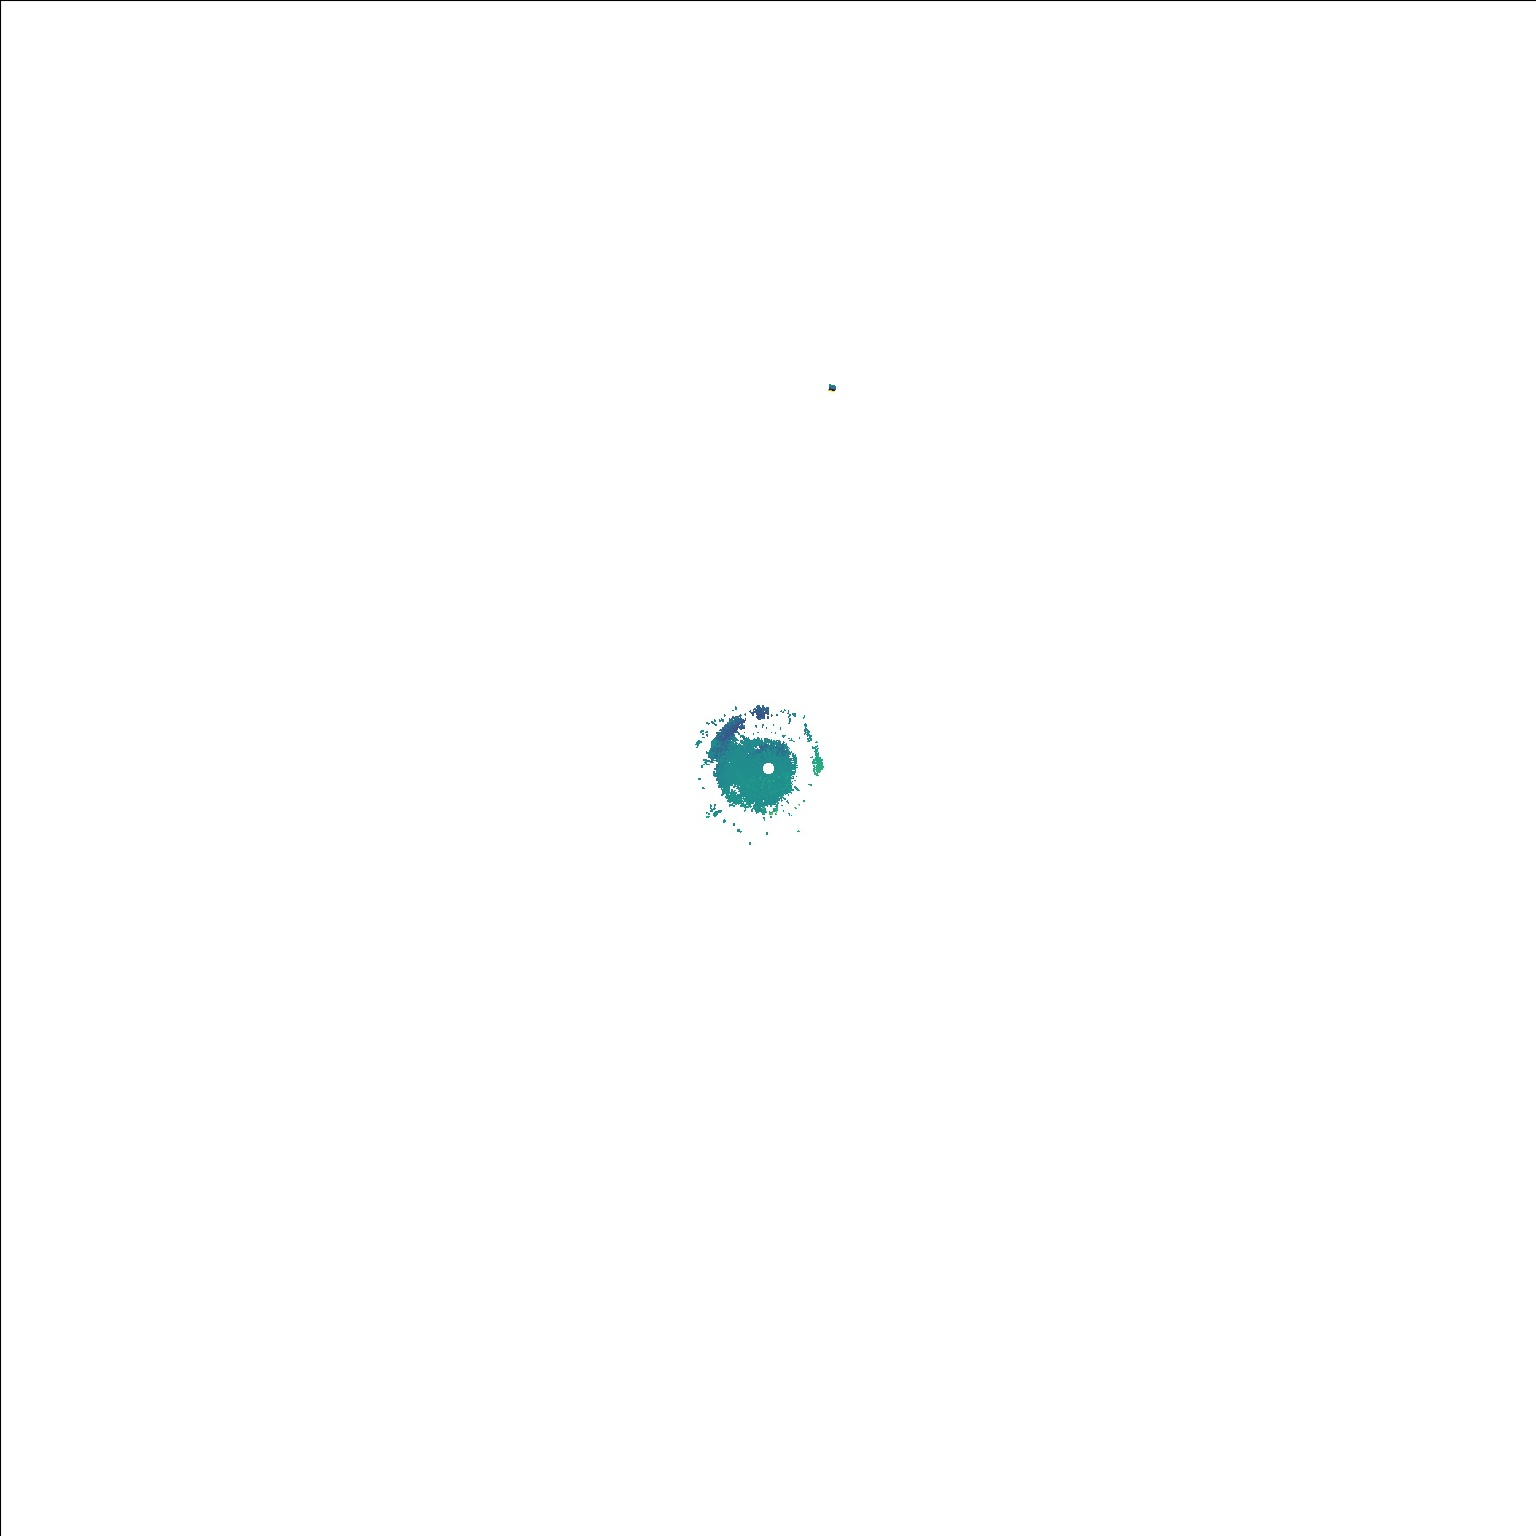fall: (823, 378, 843, 395)
